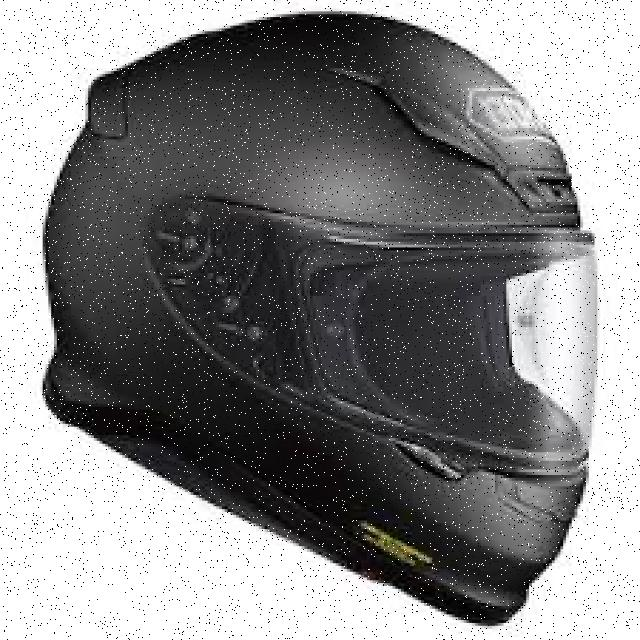Helmet: (46, 15, 595, 622)
